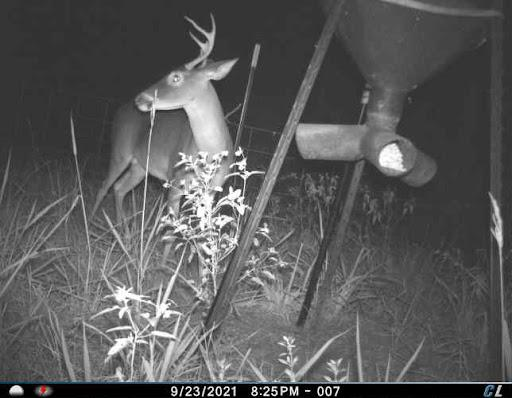Deer: (95, 11, 258, 281)
